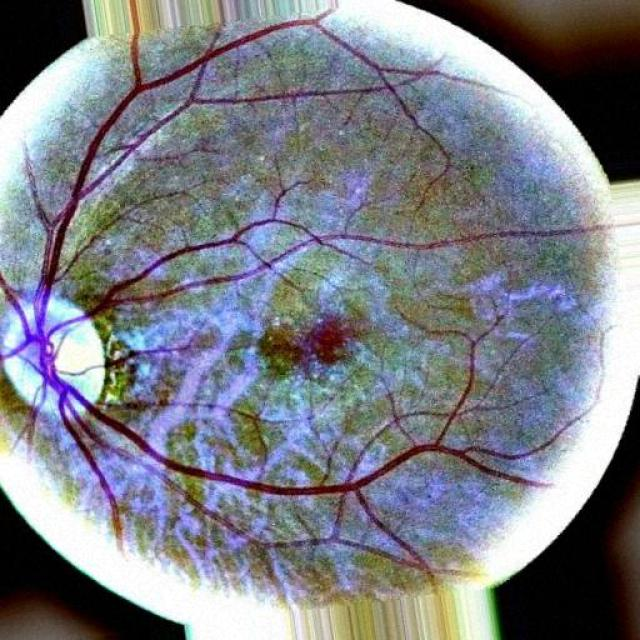Macula: (291, 319, 348, 365)
Nerves: (0, 11, 548, 569), (360, 222, 612, 249), (59, 348, 170, 376), (114, 398, 156, 410)
Optic Disk: (0, 295, 104, 415)
